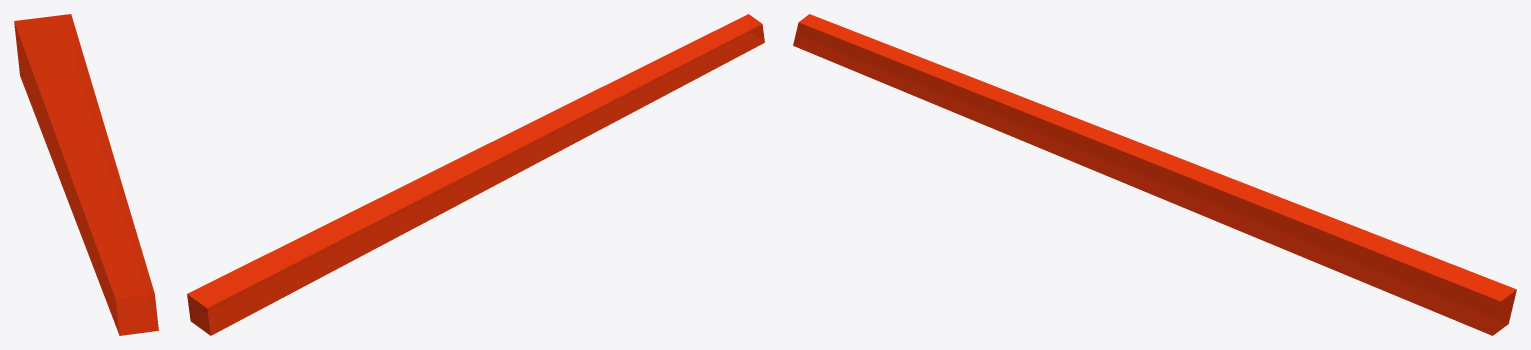
File: Event_421364160_EBrechit_21.fbx
3 renders of one model, left to right at view 1: azimuth 30°, elevation 25°; view 2: azimuth 150°, elevation 25°; view 3: azimuth 270°, elevation 25°, orthographic. The views are drawn at different scales.
Parts seen in each view (by area): view 1: Model; view 2: Model; view 3: Model.
Boxes of the visible parts, x1=… form: Model: x1=14, y1=14, x2=158, y2=335; Model: x1=187, y1=14, x2=764, y2=335; Model: x1=793, y1=14, x2=1516, y2=335.
Size of the model in its own units: 0.7635 by 0.4023 by 1.52.
